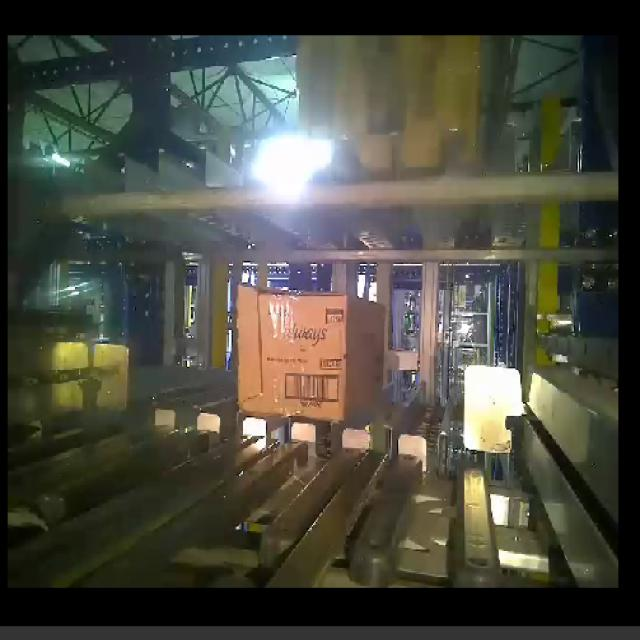box: (343, 296, 386, 423)
